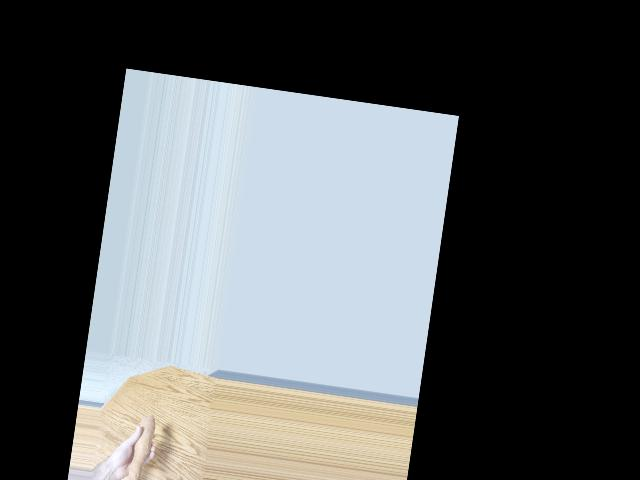sweet_potato: (124, 411, 159, 480)
